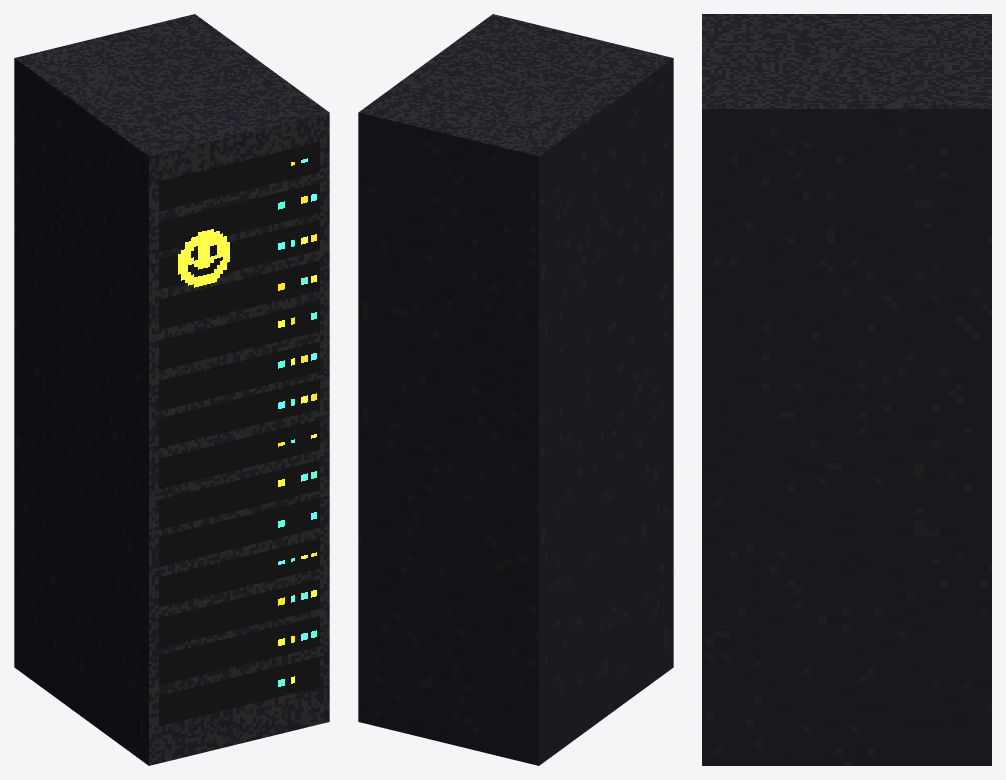
File: bots_server_rack.glb
The picture shows the model from 3 angles, left to right: view 1: azimuth 30°, elevation 25°; view 2: azimuth 150°, elevation 25°; view 3: azimuth 270°, elevation 25°; orthographic projection. The views are drawn at different scales.
Parts seen in each view (by area): view 1: prop; view 2: prop; view 3: prop.
Boxes of the visible parts, box(x1,y1,x2,y2) form: prop: box(14, 14, 329, 765); prop: box(358, 14, 673, 765); prop: box(702, 14, 991, 765).
Bounding box in the file's own units: 0.62 × 2 × 0.8.
1 material, 1 textured.
